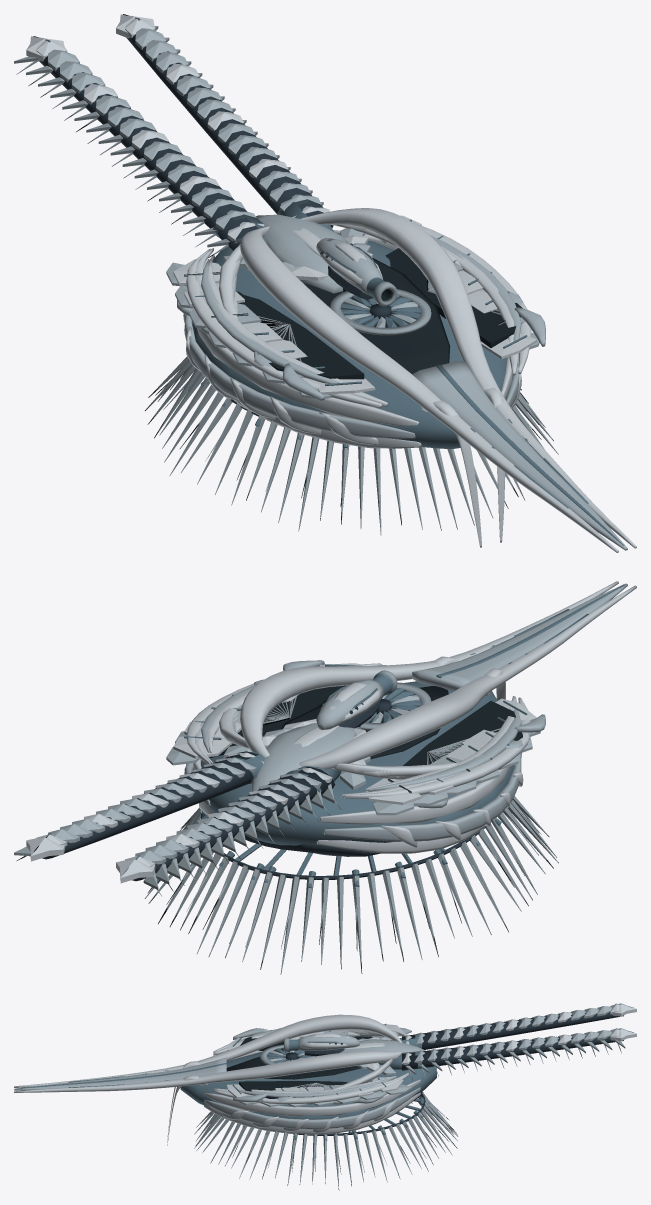
Rendered from boss_meshy_refined.glb.
The picture shows the model from 3 angles, top to bottom: view 1: azimuth 30°, elevation 25°; view 2: azimuth 150°, elevation 25°; view 3: azimuth 270°, elevation 25°; orthographic projection. The views are drawn at different scales.
Visible parts, largest first — view 1: Boss_Meshy_Refined_Runtime; view 2: Boss_Meshy_Refined_Runtime; view 3: Boss_Meshy_Refined_Runtime.
Boxes of the visible parts, x1,y1,x2,y2 form: Boss_Meshy_Refined_Runtime: (14, 14, 636, 552); Boss_Meshy_Refined_Runtime: (14, 581, 636, 974); Boss_Meshy_Refined_Runtime: (14, 1003, 636, 1190).
Size of the model in its own units: 14.3 by 9.06 by 39.99.
Materials: 1 (1 with a texture image).
